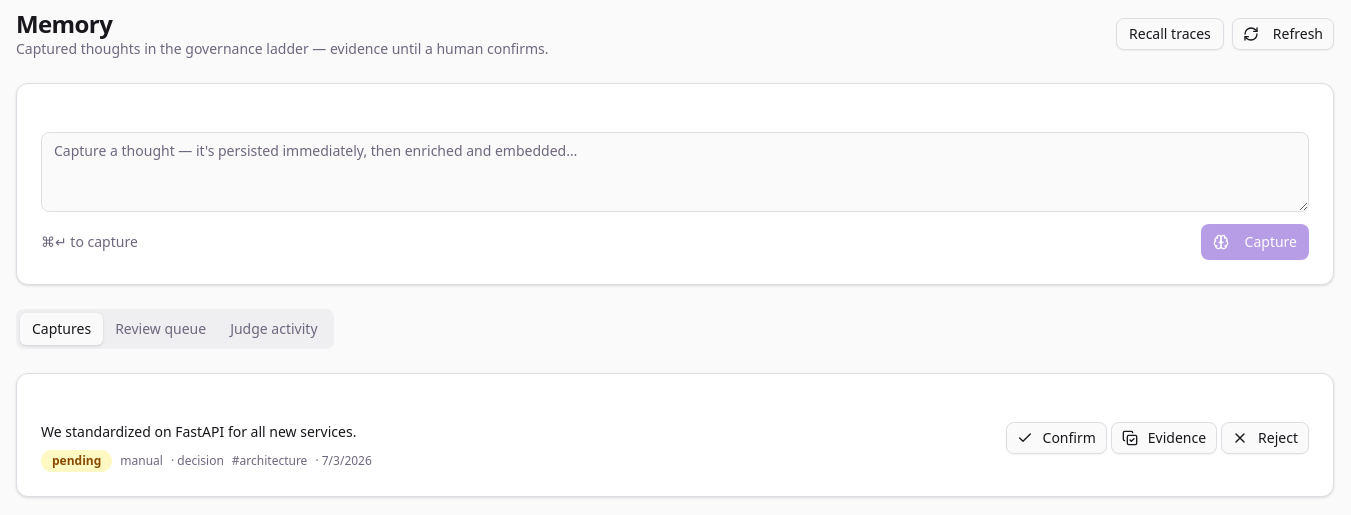
Test: shows a dedup notice when the capture already exists
Check: the text "We standardized on FastAPI for all new services." is shown, box x1=41 y1=422 x2=356 y2=441
Replace the text in the text box with placeholder "Capture a thought" with "We standardized on FastAPI for all new services." at (675, 172), box x1=41 y1=132 x2=1309 y2=212
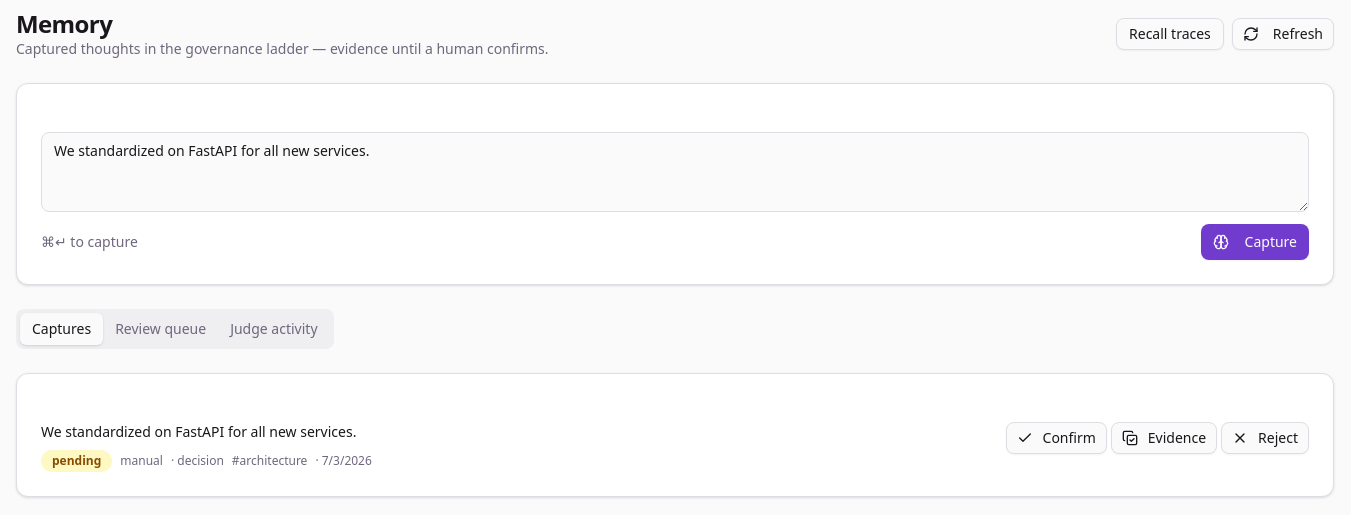
Click the button "Capture" at (1255, 242), box x1=1201 y1=224 x2=1309 y2=260
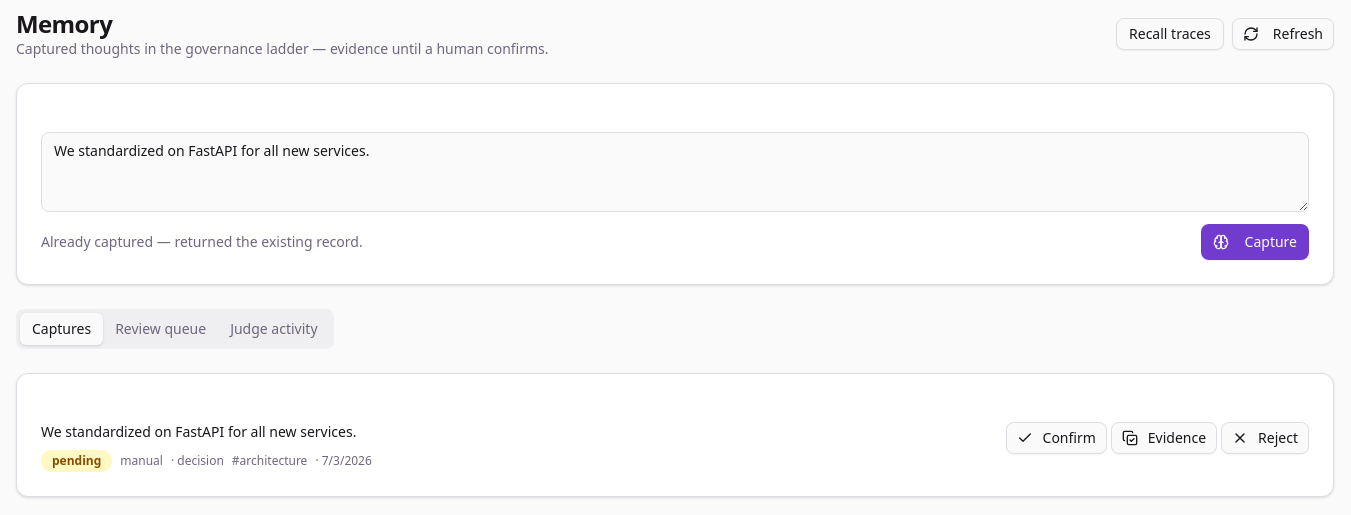
Check: the text "Already captured — returned the existing record." is shown, box x1=41 y1=232 x2=363 y2=252
